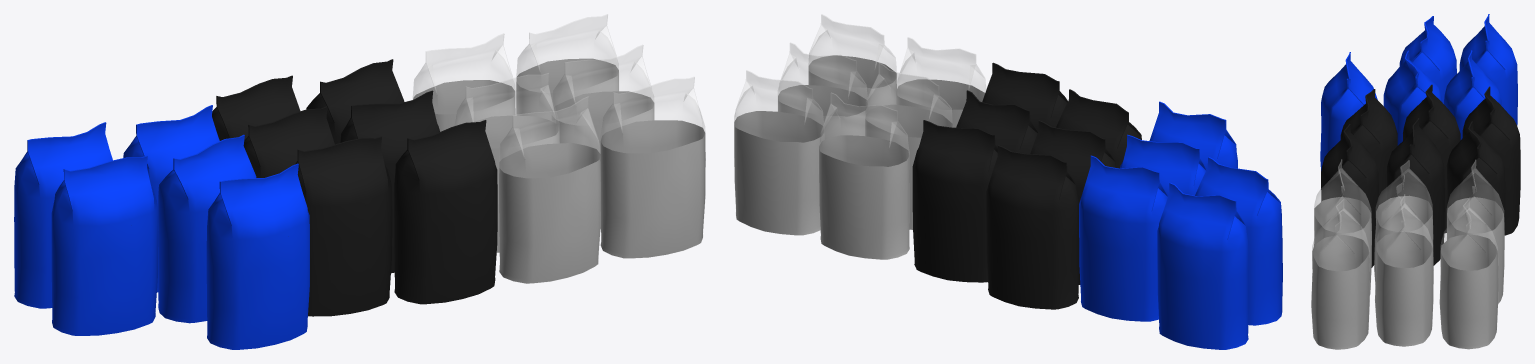
Rendered from Pasta_9duit_Pack01.fbx.
3 views of the same model, side by side, from view 1: azimuth 30°, elevation 25°; view 2: azimuth 150°, elevation 25°; view 3: azimuth 270°, elevation 25° (orthographic). The views are drawn at different scales.
Visible parts, largest first — view 1: Pasta_9duit_Pack01; view 2: Pasta_9duit_Pack01; view 3: Pasta_9duit_Pack01.
Boxes of the visible parts, x1,y1,x2,y2 form: Pasta_9duit_Pack01: (14,14,705,349); Pasta_9duit_Pack01: (734,14,1282,349); Pasta_9duit_Pack01: (1311,14,1520,349).
Bounding box in the file's own units: 99.21 × 25.85 × 40.08.
